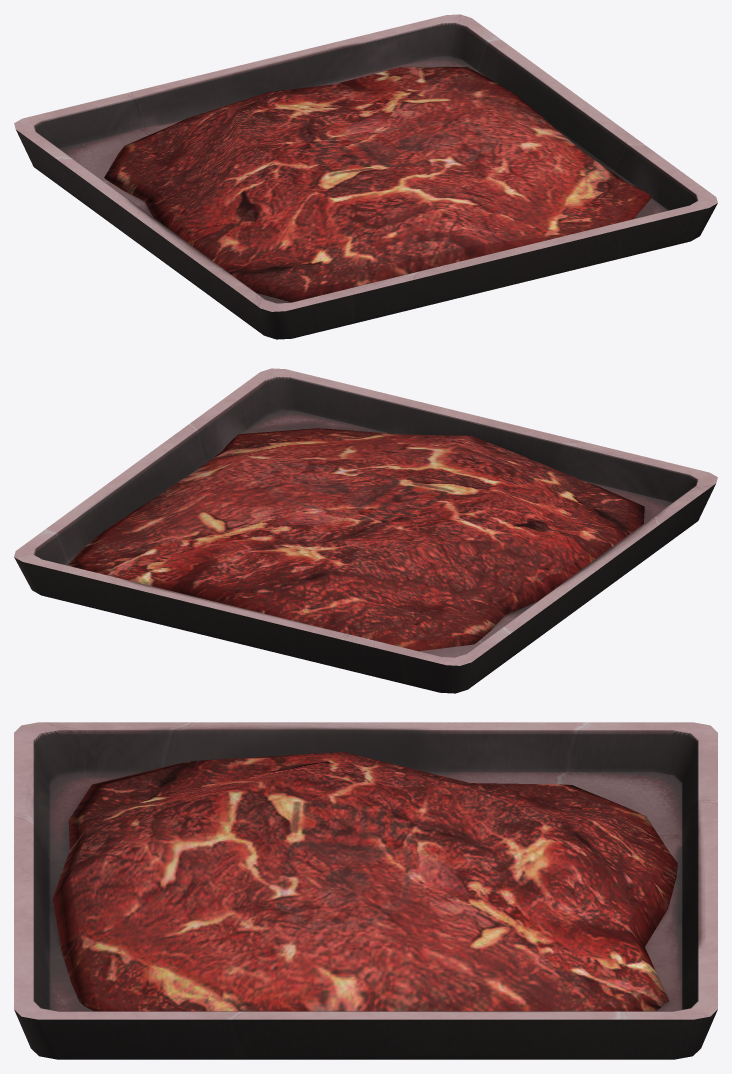
Rendered from MeatPack.fbx.
3 renders of one model, top to bottom at view 1: azimuth 30°, elevation 25°; view 2: azimuth 150°, elevation 25°; view 3: azimuth 270°, elevation 25°, orthographic. The views are drawn at different scales.
Visible parts, largest first — view 1: Meat, Plate; view 2: Meat, Plate; view 3: Meat, Plate.
Boxes of the visible parts, x1=… form: Meat: x1=104, y1=67, x2=651, y2=302; Plate: x1=14, y1=14, x2=717, y2=339; Meat: x1=69, y1=428, x2=644, y2=651; Plate: x1=14, y1=368, x2=717, y2=693; Meat: x1=52, y1=752, x2=677, y2=1011; Plate: x1=14, y1=722, x2=717, y2=1059.
Size of the model in its own units: 10.31 by 1.25 by 10.31.
